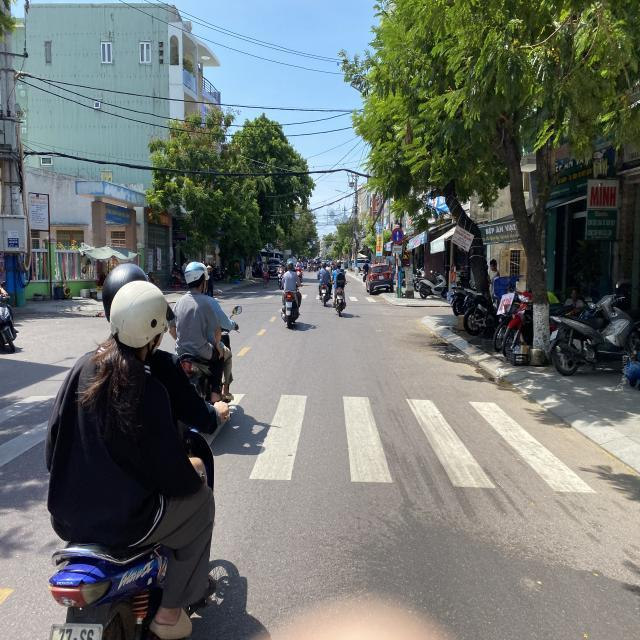walk-crossing: (238, 387, 601, 502)
